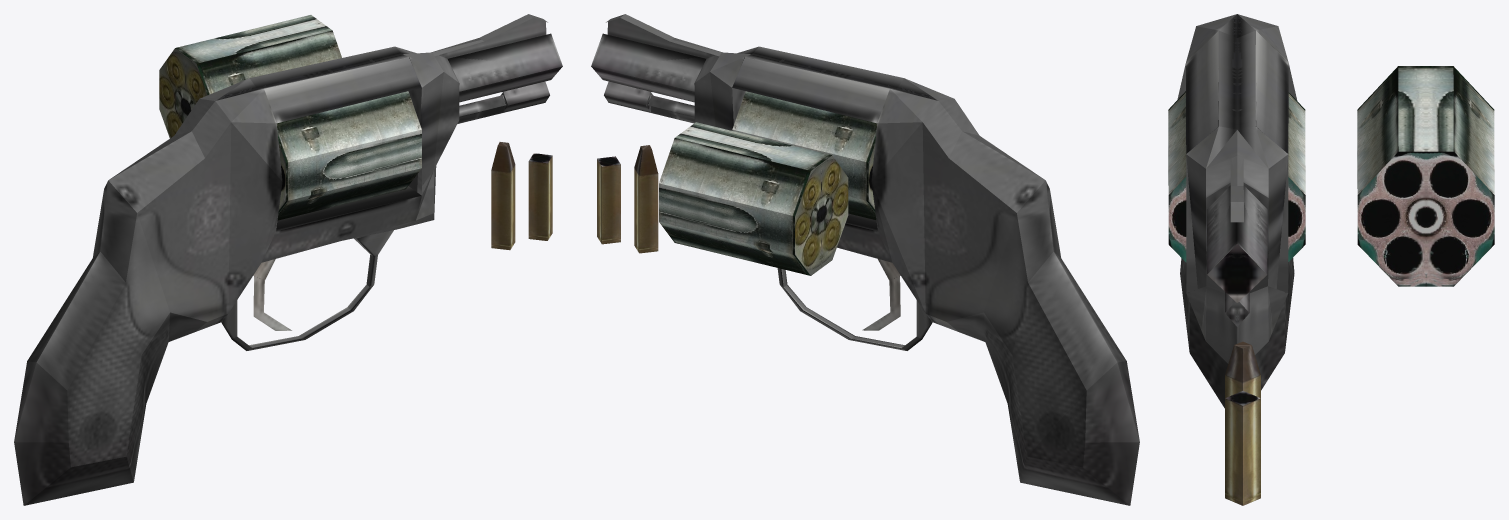
The model's file is HammerlessRevolver.fbx.
3 views of the same model, side by side, from view 1: azimuth 30°, elevation 25°; view 2: azimuth 150°, elevation 25°; view 3: azimuth 270°, elevation 25° (orthographic). The views are drawn at different scales.
Visible parts, largest first — view 1: HammerlessBody, HammerlessCylindereEmpty, HammerlessCylinder, Bullet.004, Bullet.001, HammerlessTrigger; view 2: HammerlessBody, HammerlessCylinder, HammerlessCylindereEmpty, Bullet.004, Bullet.001, HammerlessTrigger; view 3: HammerlessBody, HammerlessCylinder, HammerlessCylindereEmpty, Bullet.001, Bullet.004.
Part boxes in pixels (<box>): HammerlessBody: <box>14,14,562,505</box>; HammerlessCylindereEmpty: <box>276,91,421,220</box>; HammerlessCylinder: <box>159,15,341,138</box>; Bullet.004: <box>491,142,515,250</box>; Bullet.001: <box>528,153,552,240</box>; HammerlessTrigger: <box>253,259,291,330</box>; HammerlessBody: <box>591,14,1139,505</box>; HammerlessCylinder: <box>659,122,848,275</box>; HammerlessCylindereEmpty: <box>732,91,877,219</box>; Bullet.004: <box>634,145,658,253</box>; Bullet.001: <box>597,156,620,244</box>; HammerlessTrigger: <box>862,259,900,330</box>; HammerlessBody: <box>1177,14,1297,408</box>; HammerlessCylinder: <box>1357,66,1494,286</box>; HammerlessCylindereEmpty: <box>1168,91,1305,262</box>; Bullet.001: <box>1225,391,1260,505</box>; Bullet.004: <box>1225,341,1260,397</box>.
Bounding box in the file's own units: 191 × 125 × 77.69.
4 materials, 4 textured.
